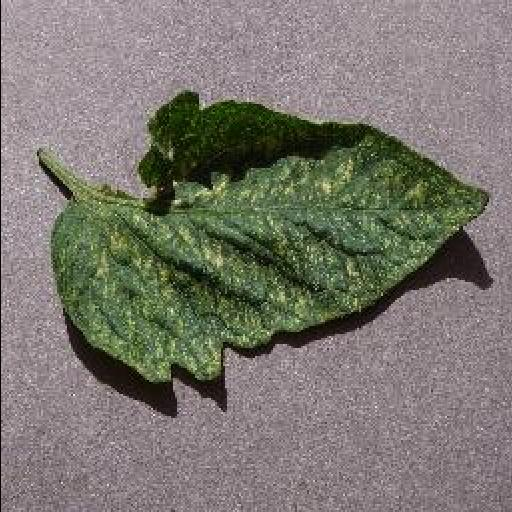disease_tomato: (48, 90, 492, 388)
